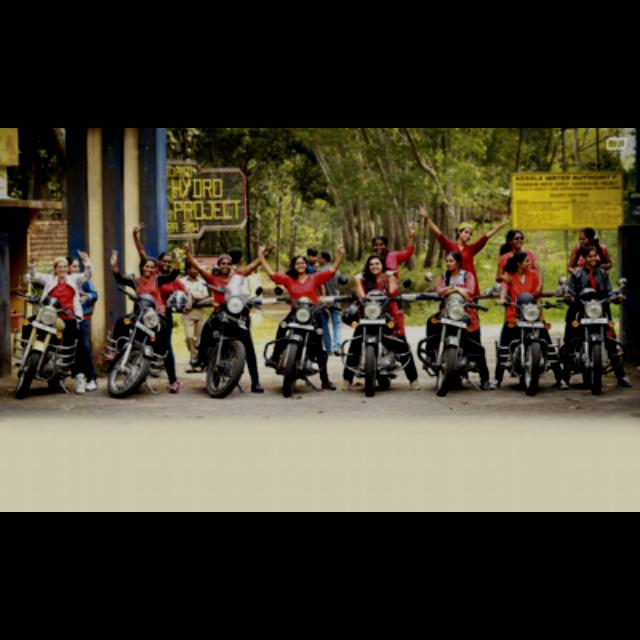Without Helmet: (288, 253, 316, 279), (510, 247, 534, 276), (363, 250, 385, 276), (578, 242, 600, 268)
